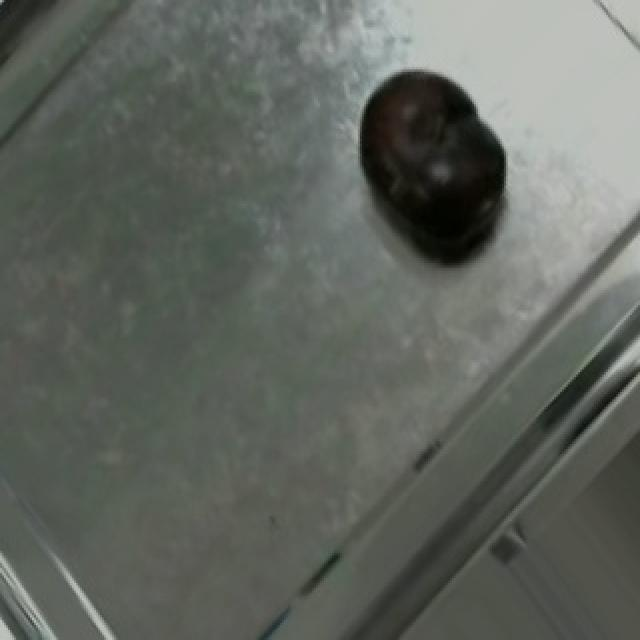Fruit: (334, 47, 532, 268)
